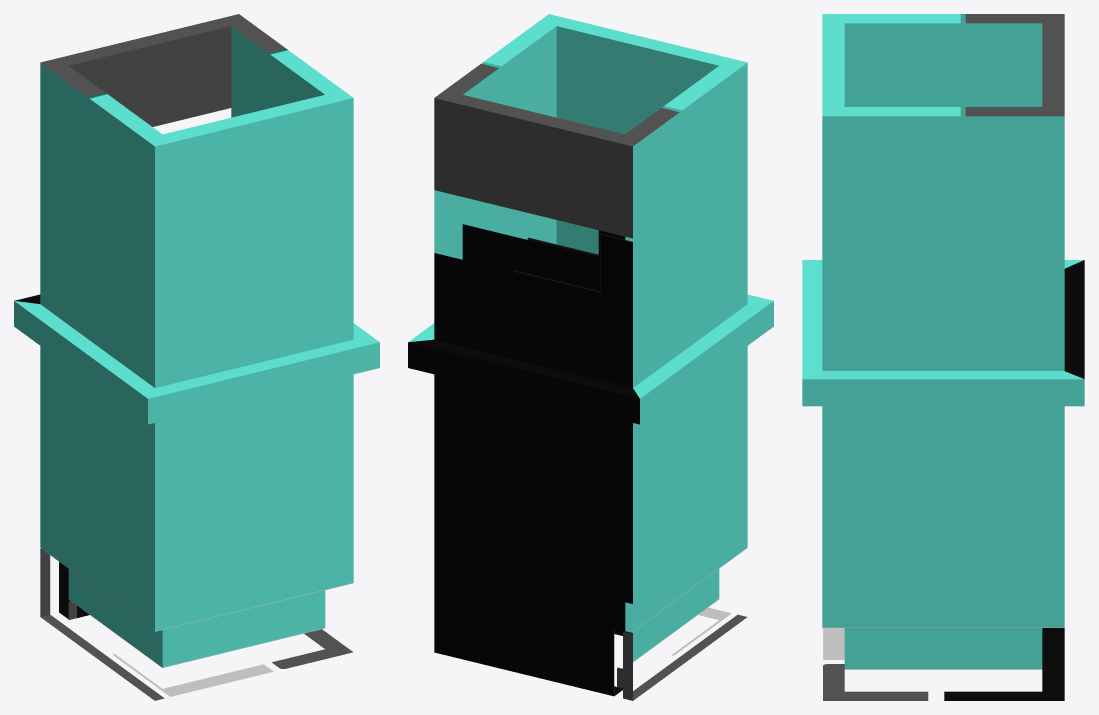
File: Straight Pipe Model.fbx
3 views of the same model, side by side, from view 1: azimuth 30°, elevation 25°; view 2: azimuth 150°, elevation 25°; view 3: azimuth 270°, elevation 25° (orthographic). The views are drawn at different scales.
Parts seen in each view (by area): view 1: Main_Straight_Pipe; view 2: Main_Straight_Pipe; view 3: Main_Straight_Pipe.
Part boxes in pixels (box(x1,y1,x2,y2)): Main_Straight_Pipe: box(14, 14, 379, 700); Main_Straight_Pipe: box(408, 14, 773, 700); Main_Straight_Pipe: box(802, 14, 1084, 700).
Size of the model in its own units: 3.61 by 8.24 by 3.61.
Materials: 1 (1 with a texture image).
